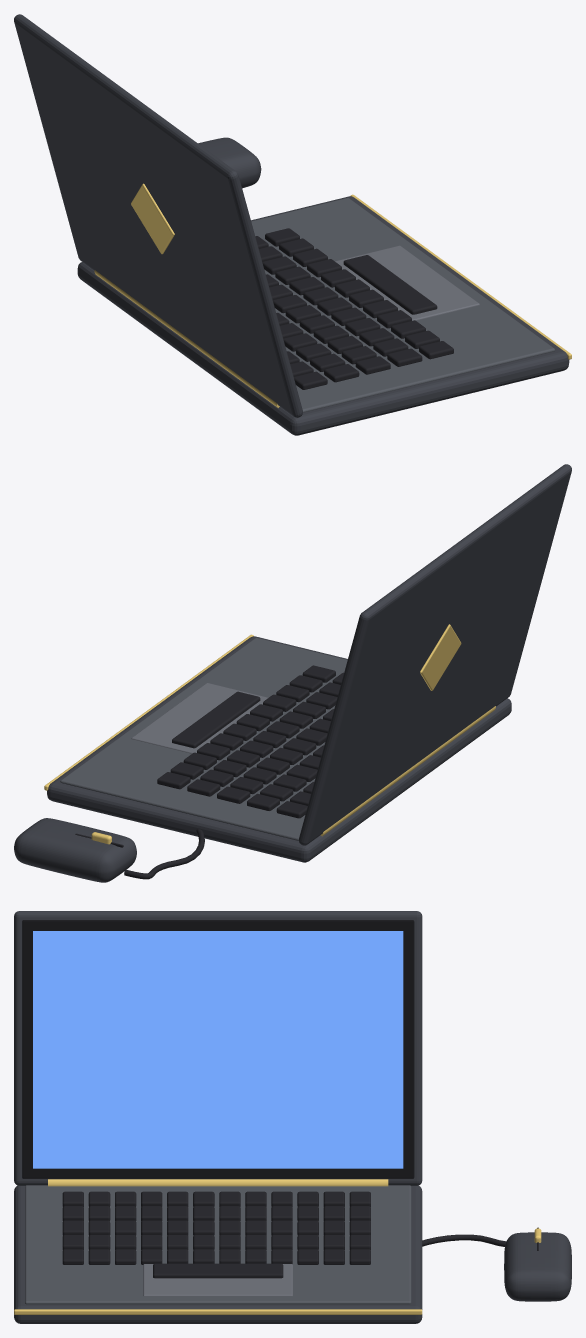
File: laptop.fbx
3 views of the same model, one above another, from view 1: azimuth 30°, elevation 25°; view 2: azimuth 150°, elevation 25°; view 3: azimuth 270°, elevation 25° (orthographic). The views are drawn at different scales.
Visible parts, largest first — view 1: LapLid, LapDeck, LapBase, LapPad, LapKeys.060, MouseBody, LapLogo, LapHinge, LapTrim; view 2: LapLid, LapDeck, LapBase, MouseBody, LapPad, LapKeys.060, LapLogo, LapHinge, MouseCable, LapTrim; view 3: LapScreen, LapDeck, LapBezel, LapLid, LapBase, MouseBody, LapPad, LapHinge, LapTrim, LapKeys.060, MouseCable.
Part boxes in pixels (box(x1,y1,x2,y2)): LapLid: box(14, 14, 302, 417); LapDeck: box(251, 198, 554, 412); LapBase: box(77, 196, 569, 435); LapPad: box(335, 245, 479, 320); LapKeys.060: box(343, 255, 437, 314); MouseBody: box(198, 137, 261, 188); LapLogo: box(131, 183, 174, 254); LapHinge: box(94, 270, 279, 407); LapTrim: box(350, 194, 571, 359); LapLid: box(298, 464, 571, 845); LapDeck: box(60, 637, 347, 840); LapBase: box(47, 636, 511, 862); MouseBody: box(14, 818, 136, 882); LapPad: box(131, 683, 268, 753); LapKeys.060: box(172, 691, 260, 748); LapLogo: box(420, 624, 461, 690); LapHinge: box(320, 706, 495, 836); MouseCable: box(124, 829, 204, 879); LapTrim: box(44, 634, 253, 790); LapScreen: box(33, 931, 403, 1168); LapDeck: box(25, 1185, 411, 1304); LapBezel: box(22, 920, 414, 1178); LapLid: box(14, 911, 422, 1185); LapBase: box(14, 1185, 422, 1323); MouseBody: box(504, 1232, 571, 1301); LapPad: box(143, 1264, 292, 1296); LapHinge: box(48, 1179, 388, 1186); LapTrim: box(14, 1309, 422, 1314); LapKeys.060: box(153, 1263, 283, 1278); MouseCable: box(422, 1234, 506, 1246).
Size of the model in its own units: 2.7 by 2.12 by 4.1.
